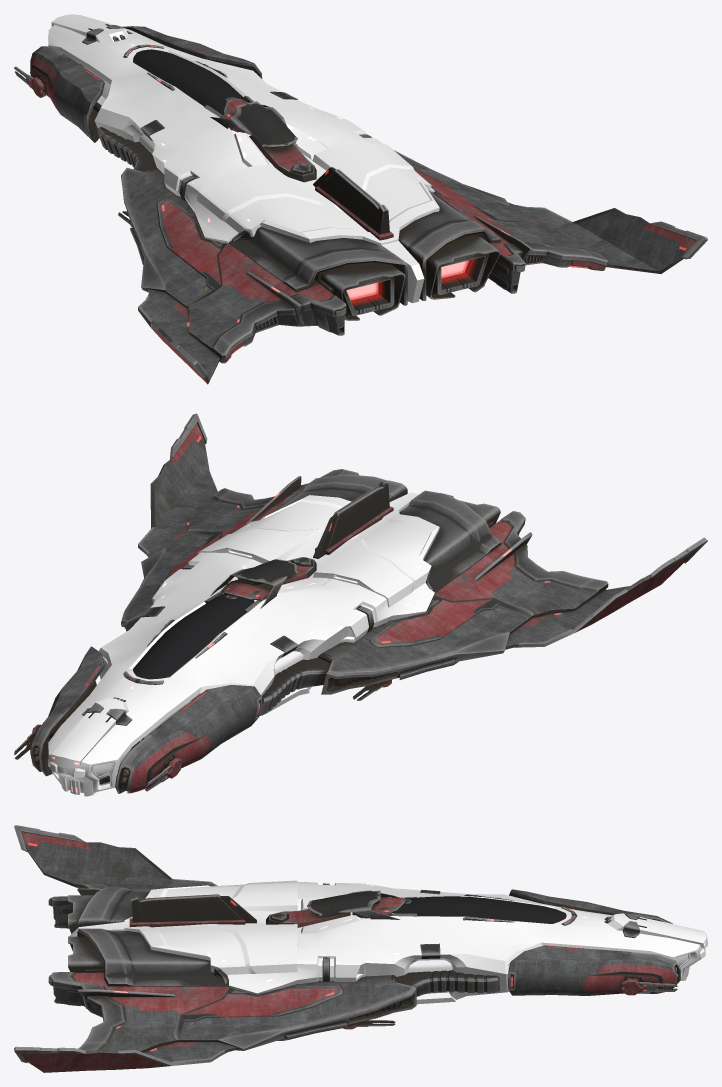
3 renders of one model, top to bottom at view 1: azimuth 30°, elevation 25°; view 2: azimuth 150°, elevation 25°; view 3: azimuth 270°, elevation 25°, orthographic. The views are drawn at different scales.
Visible parts, largest first — view 1: Spaceship; view 2: Spaceship; view 3: Spaceship.
Part boxes in pixels (x1,y1,x2,y2): Spaceship: (14, 14, 707, 384); Spaceship: (14, 413, 707, 796); Spaceship: (14, 825, 707, 1072).
Size of the model in its own units: 20.67 by 3.93 by 26.97.
